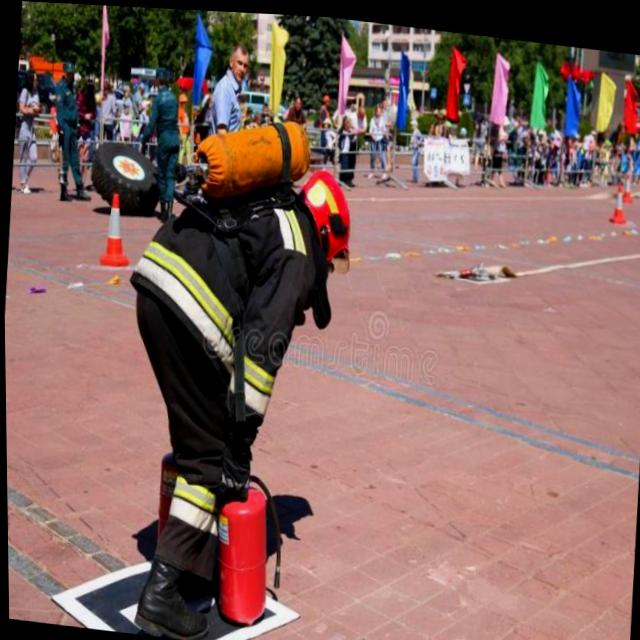FireExtinguisher: (202, 444, 295, 626), (140, 419, 212, 585)
